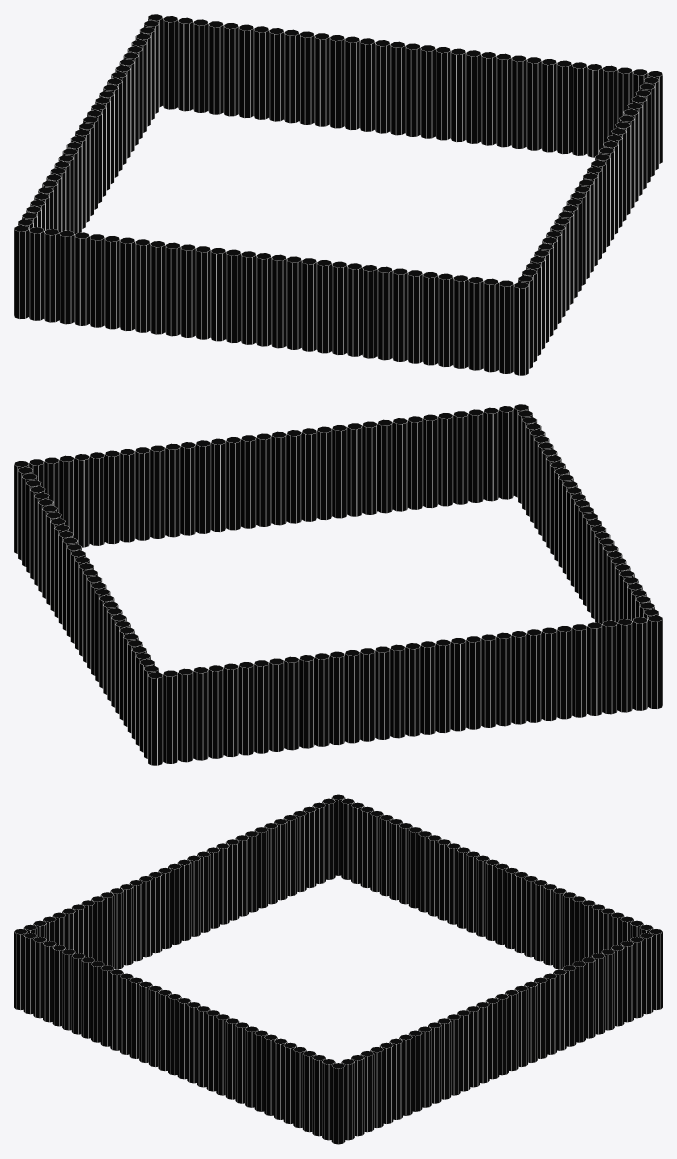
The model's file is ShamWall.obj.
The picture shows the model from 3 angles, top to bottom: view 1: azimuth 30°, elevation 25°; view 2: azimuth 150°, elevation 25°; view 3: azimuth 270°, elevation 25°; orthographic projection. The views are drawn at different scales.
Visible parts, largest first — view 1: wall; view 2: wall; view 3: wall.
Boxes of the visible parts, x1,y1,x2,y2 form: wall: (14,14,662,375); wall: (14,404,662,765); wall: (14,794,662,1144).
Bounding box in the file's own units: 95.34 × 12.3 × 95.34.
1 material, 1 textured.
